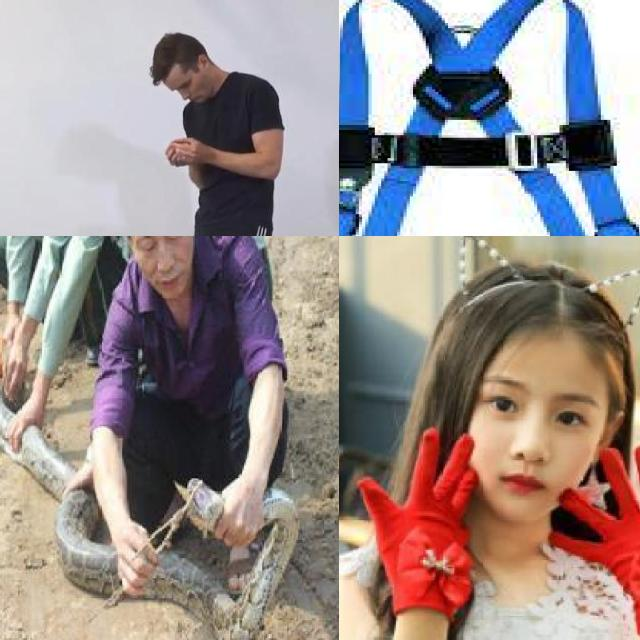Harness: (339, 0, 640, 236)
No_Ear-Protection: (194, 45, 213, 74)
No_Glasses: (481, 377, 593, 448)
face_nomask: (471, 353, 605, 502), (130, 236, 208, 298), (171, 84, 219, 106)
hand_glove: (350, 427, 482, 613), (548, 446, 640, 609)
hand_noglove: (156, 117, 209, 188), (116, 524, 158, 596), (215, 483, 259, 548), (6, 397, 47, 449), (2, 346, 28, 400), (62, 463, 94, 496), (1, 314, 19, 346)
head_nohelmet: (420, 239, 640, 373)
person: (339, 236, 640, 640), (79, 236, 330, 620), (139, 30, 285, 236), (0, 236, 87, 334)
